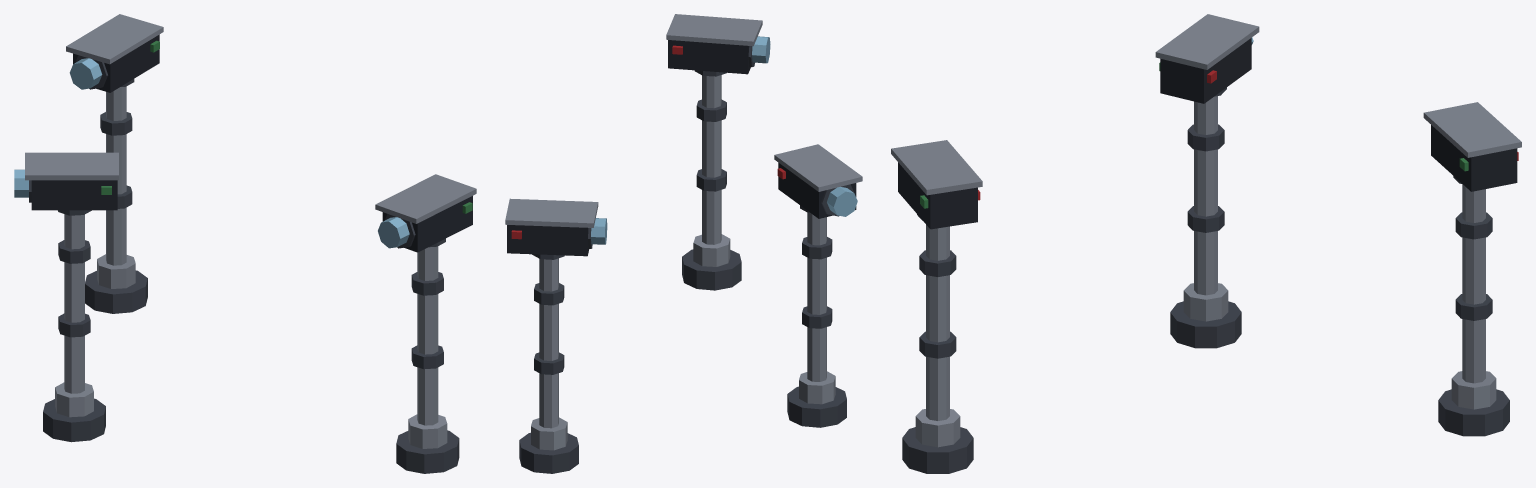
Rendered from Decor_GoldVault_Cameras.fbx.
The picture shows the model from 3 angles, left to right: view 1: azimuth 30°, elevation 25°; view 2: azimuth 150°, elevation 25°; view 3: azimuth 270°, elevation 25°; orthographic projection. The views are drawn at different scales.
Parts seen in each view (by area): view 1: Cameras_Body; view 2: Cameras_Body; view 3: Cameras_Body.
Boxes of the visible parts, bbox=[...] form: Cameras_Body: bbox=[14, 14, 476, 473]; Cameras_Body: bbox=[505, 14, 862, 473]; Cameras_Body: bbox=[891, 14, 1521, 473].
Size of the model in its own units: 14.01 by 10.8 by 21.04.
